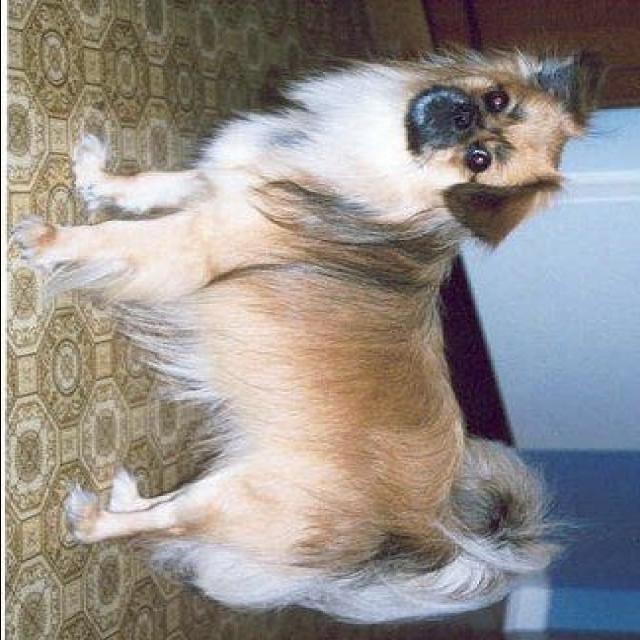pekinese: (10, 40, 594, 622)
